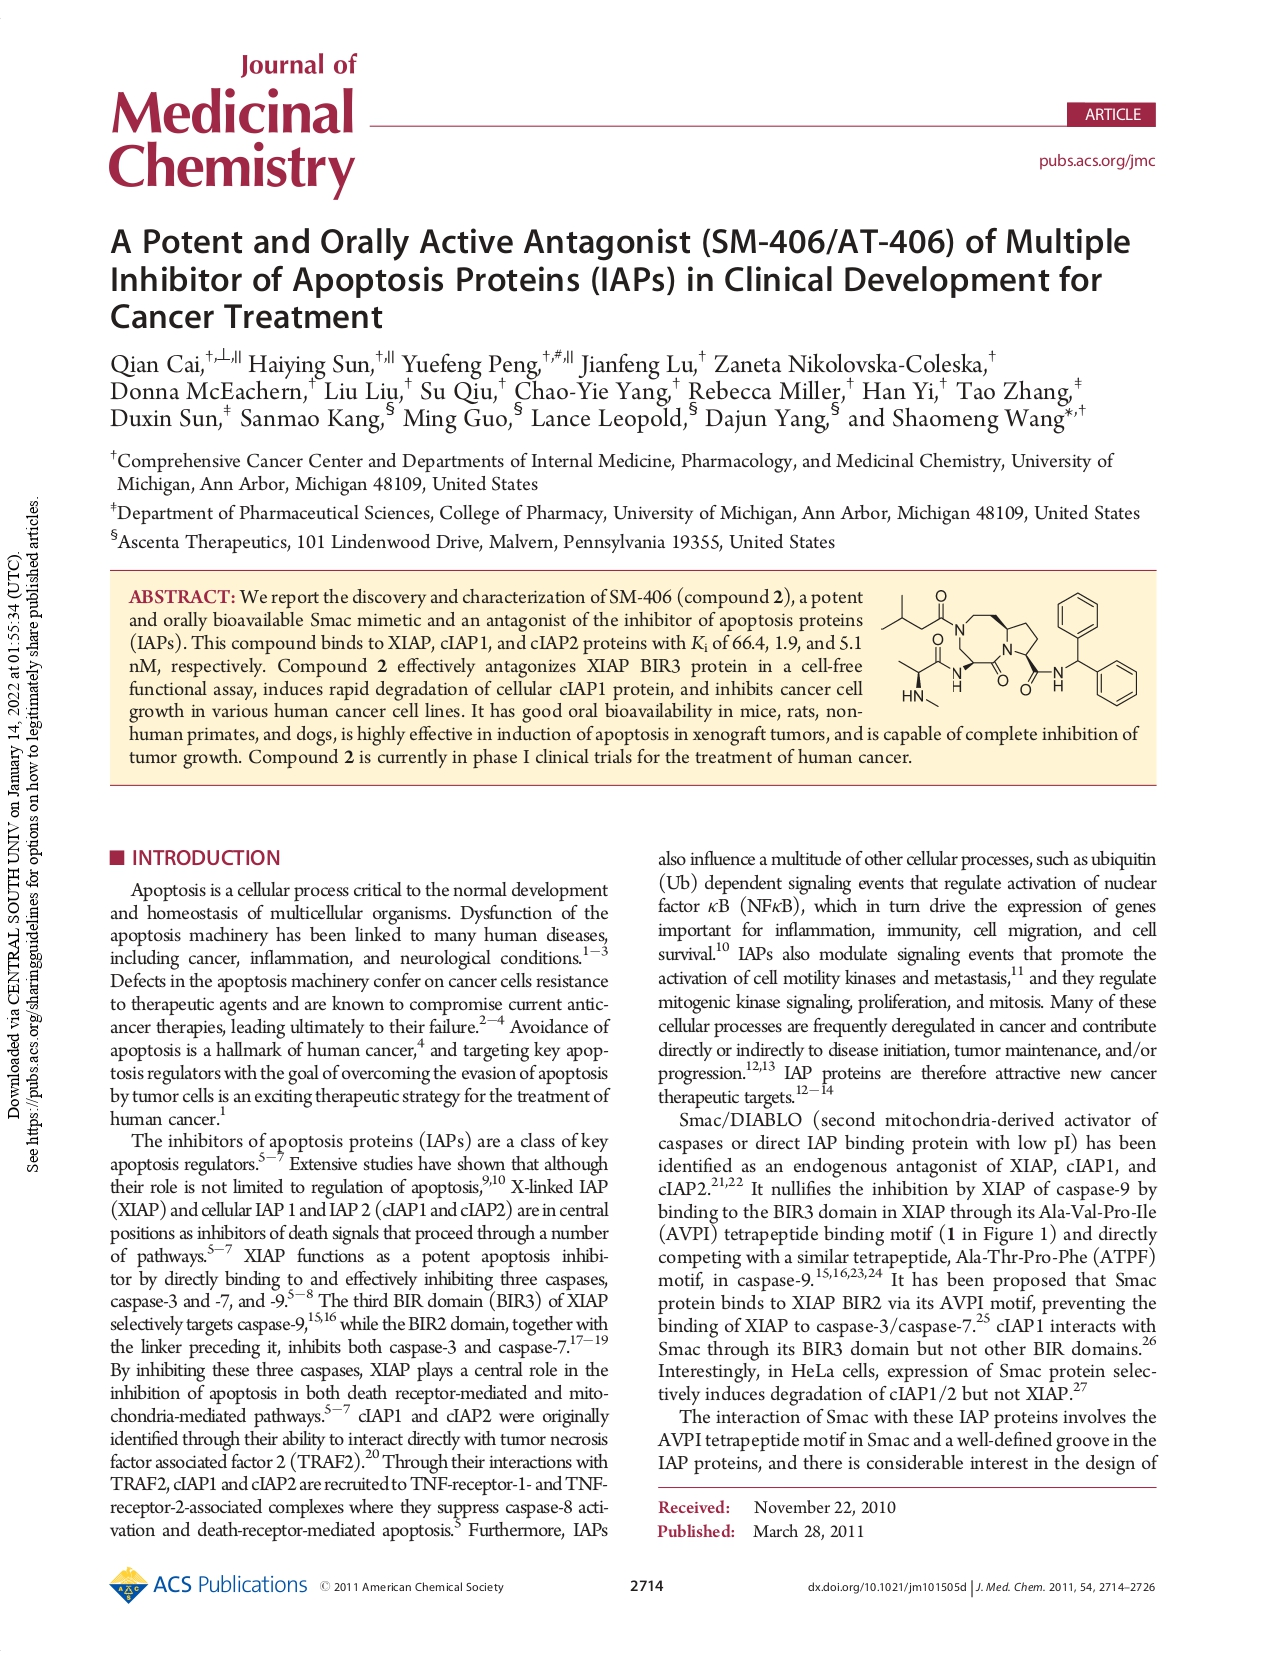exist_molecular: (874, 585, 1144, 715)
